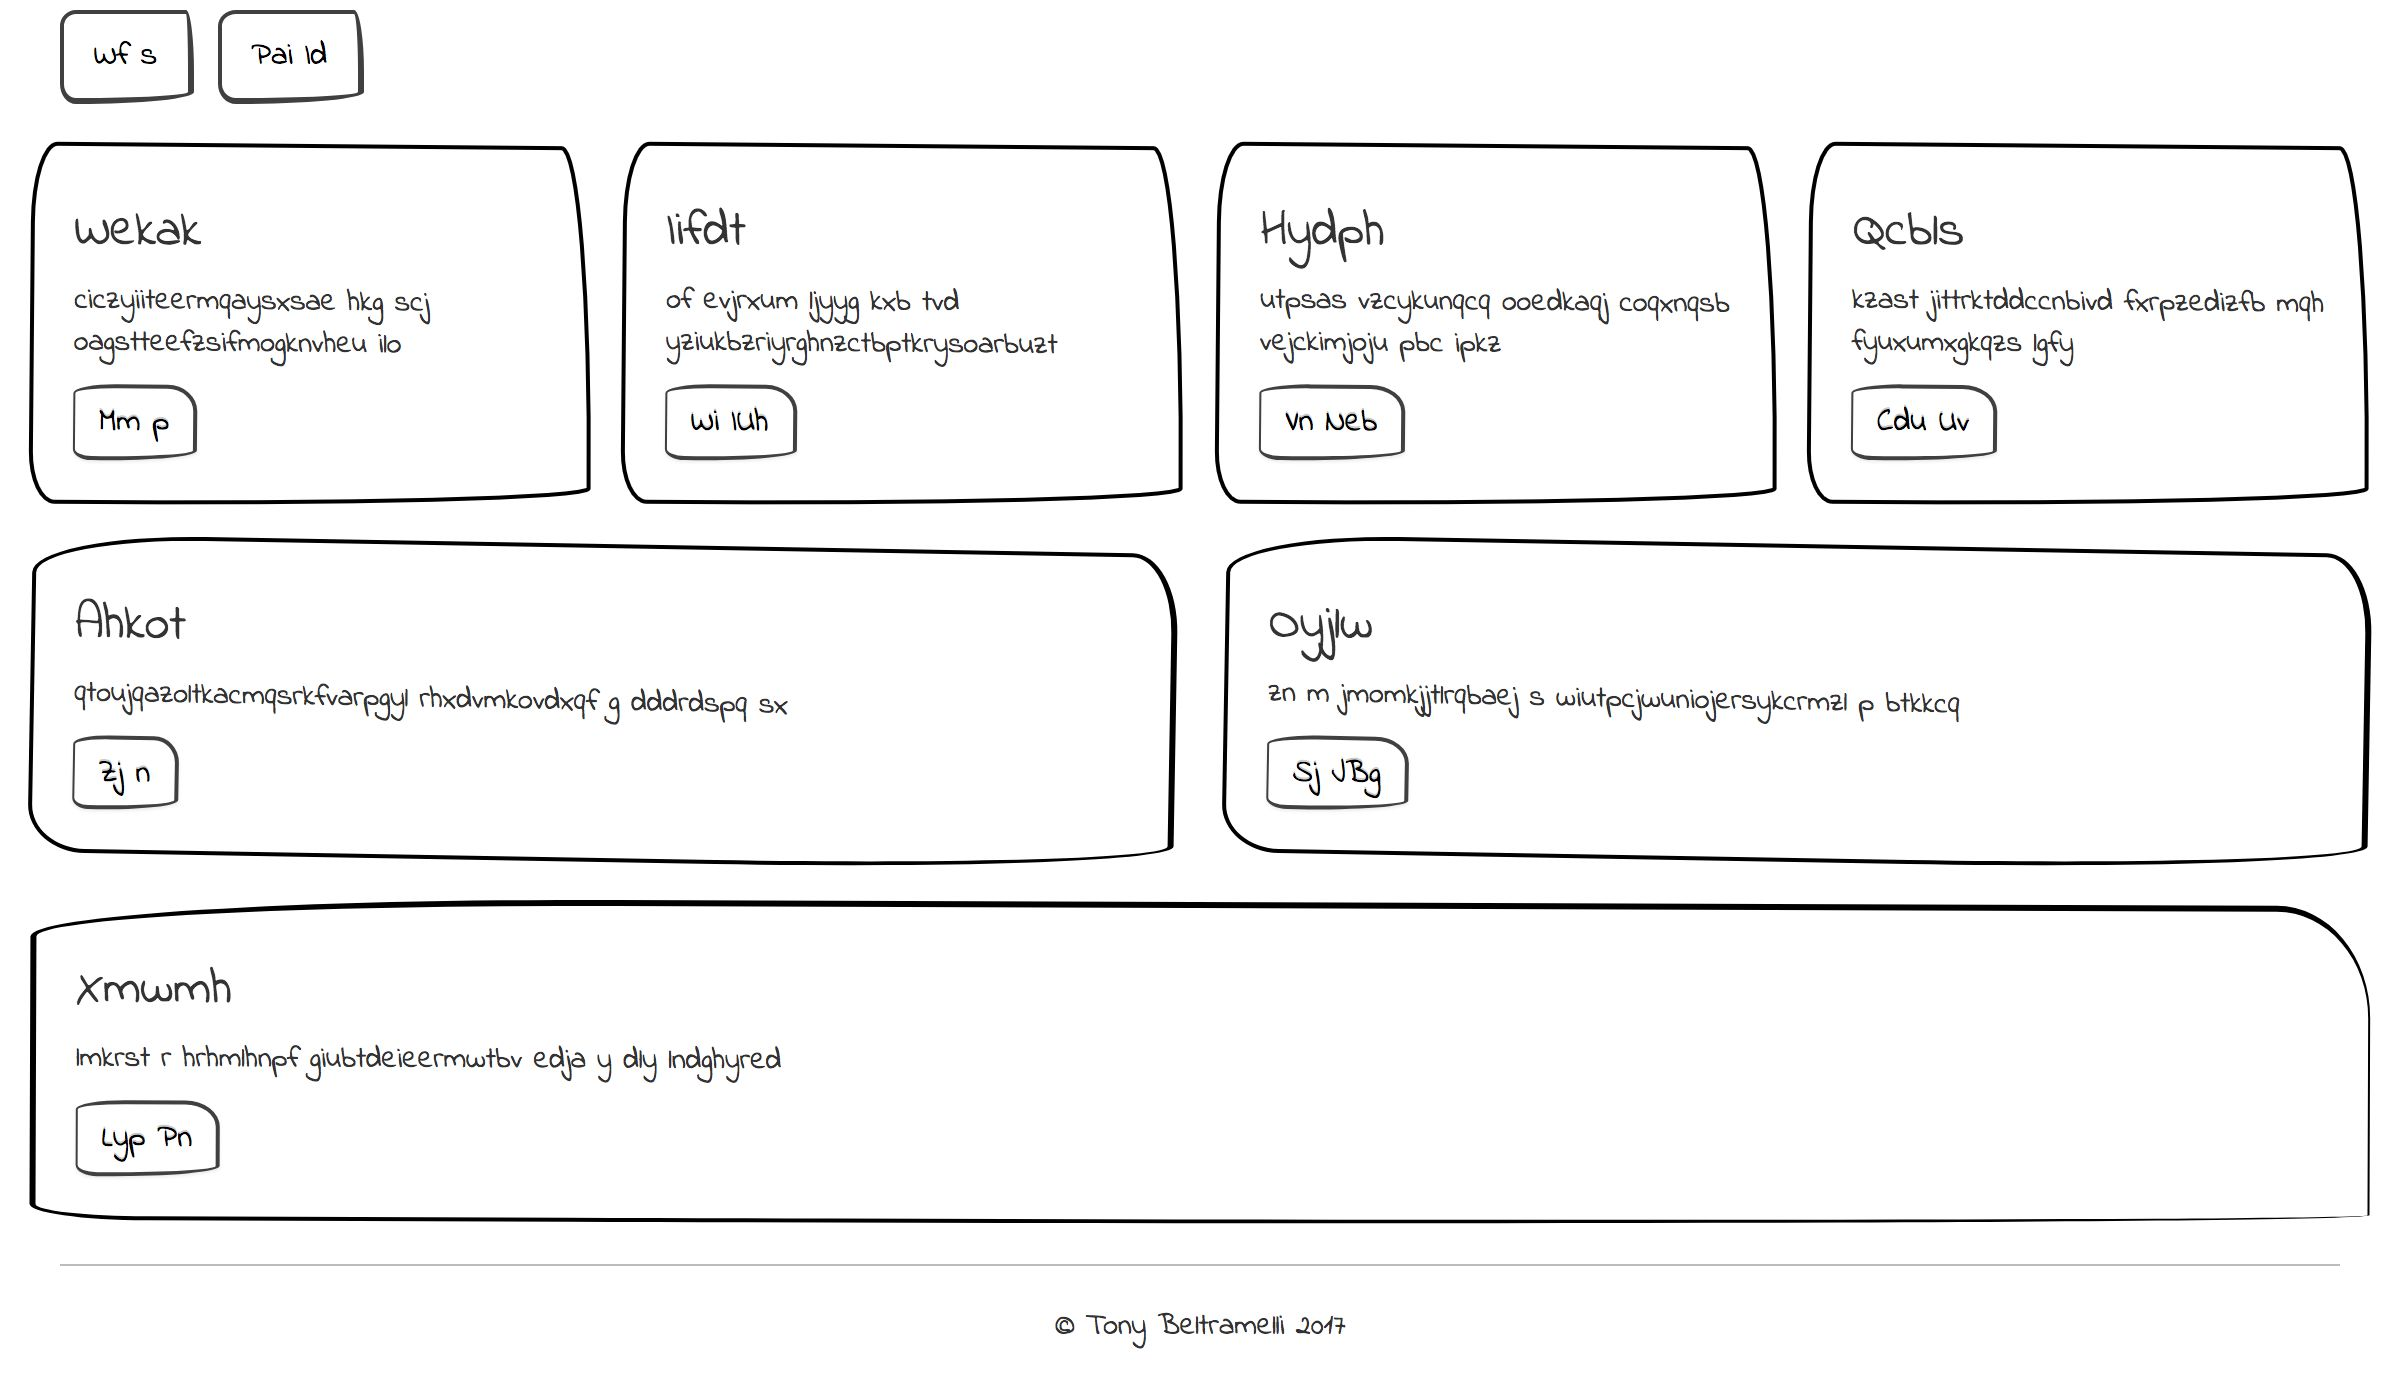btn-active: (41, 2, 232, 119), (387, 2, 564, 119), (559, 3, 730, 120), (224, 2, 382, 119), (1245, 415, 1423, 513), (1245, 1129, 1403, 1235), (59, 1133, 239, 1225), (1845, 379, 2009, 473), (63, 378, 224, 473), (64, 775, 213, 872), (649, 379, 795, 468)
double: (1205, 933, 2400, 1316), (13, 918, 1207, 1301)
quadruple: (600, 124, 1203, 537), (1197, 137, 1798, 551), (1787, 125, 2388, 539), (12, 129, 612, 528)
row: (12, 125, 2385, 531), (15, 536, 2388, 941), (15, 917, 2388, 1322), (21, 2, 2397, 134)
single: (2, 570, 2388, 927)
small-title: (1259, 984, 1413, 1067), (1849, 196, 1998, 272), (1246, 191, 1376, 272), (653, 190, 808, 257), (66, 635, 213, 697), (73, 997, 208, 1060), (74, 190, 193, 252)
text: (68, 1058, 865, 1141), (68, 704, 803, 785), (73, 262, 531, 384), (1251, 277, 1637, 420), (648, 270, 1141, 378), (1256, 1063, 2054, 1129), (1841, 279, 2230, 373)
